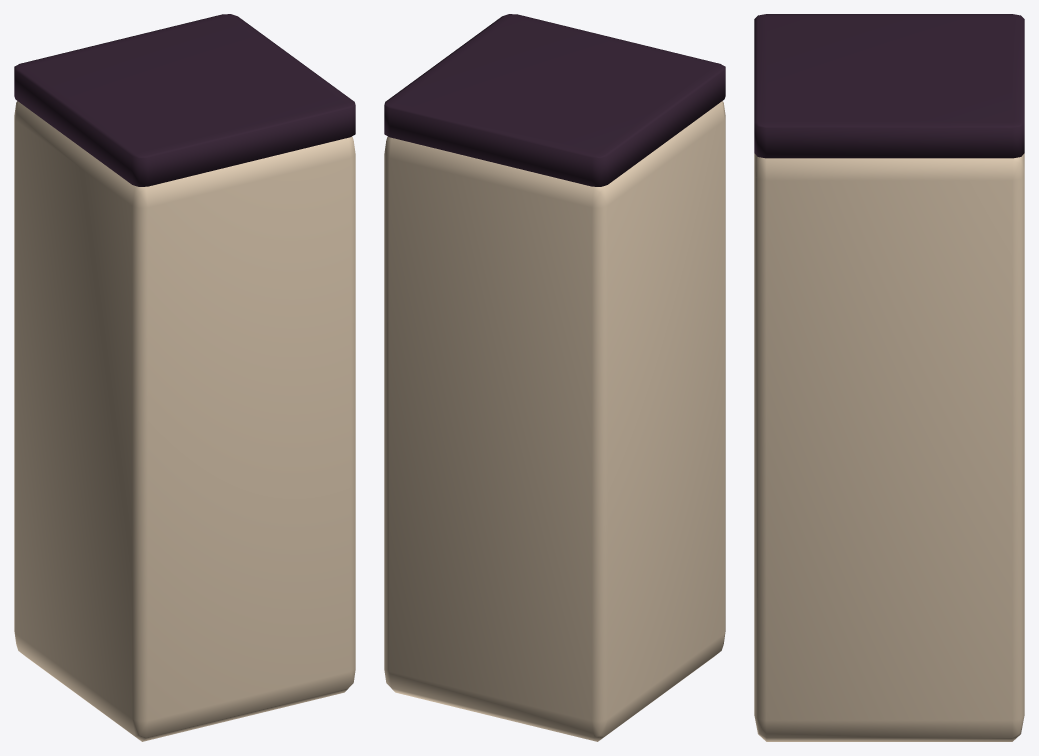
Rendered from Pilar.fbx.
3 renders of one model, left to right at view 1: azimuth 30°, elevation 25°; view 2: azimuth 150°, elevation 25°; view 3: azimuth 270°, elevation 25°, orthographic. The views are drawn at different scales.
Parts seen in each view (by area): view 1: Cube, Cube.001; view 2: Cube, Cube.001; view 3: Cube, Cube.001.
Part boxes in pixels (x1,y1,x2,y2): Cube: (14,101,355,741); Cube.001: (14,14,355,186); Cube: (384,101,725,741); Cube.001: (384,14,725,186); Cube: (754,153,1024,741); Cube.001: (754,14,1024,158).
Bounding box in the file's own units: 2 × 5.07 × 2.
